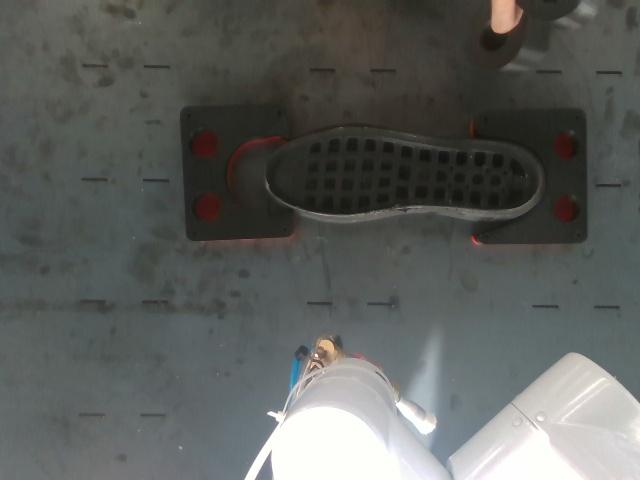shoes: (266, 127, 539, 215)
